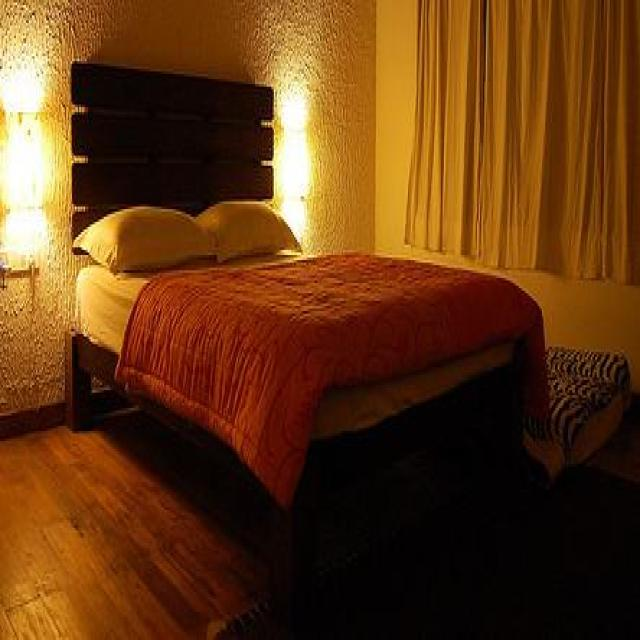bed: (72, 56, 535, 640)
